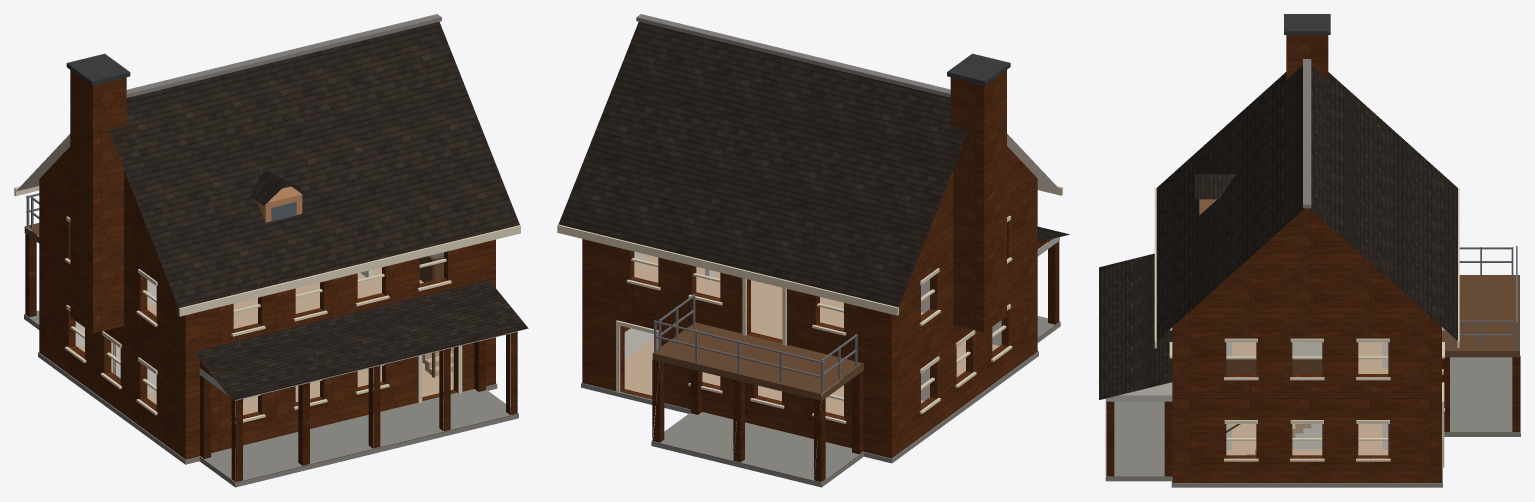
File: rw-log-house.towns-v2.lod0.glb
3 views of the same model, side by side, from view 1: azimuth 30°, elevation 25°; view 2: azimuth 150°, elevation 25°; view 3: azimuth 270°, elevation 25° (orthographic). The views are drawn at different scales.
Parts seen in each view (by area): view 1: rw-log-house; view 2: rw-log-house; view 3: rw-log-house.
Part boxes in pixels (left/top/right/bottom): rw-log-house: left=14, top=14, right=528, bottom=487; rw-log-house: left=557, top=14, right=1069, bottom=487; rw-log-house: left=1099, top=14, right=1520, bottom=487.
Size of the model in its own units: 12.78 by 11.77 by 14.08.
5 materials, 2 textured.
